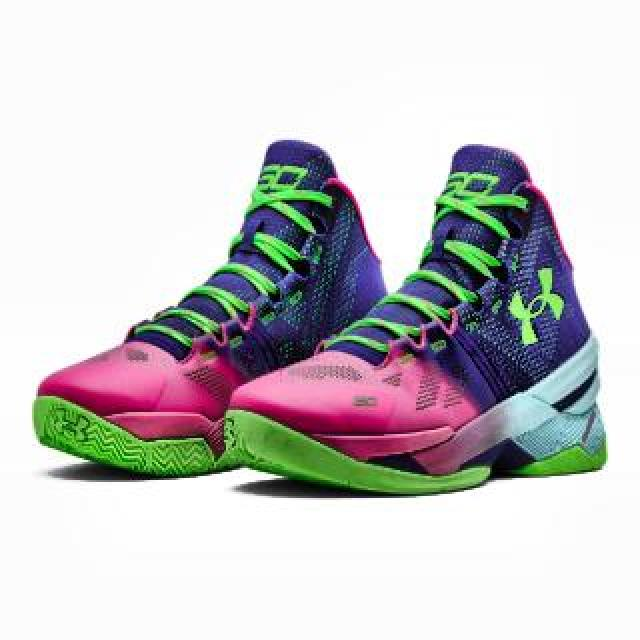shoe: (228, 141, 608, 493), (34, 136, 406, 476)
